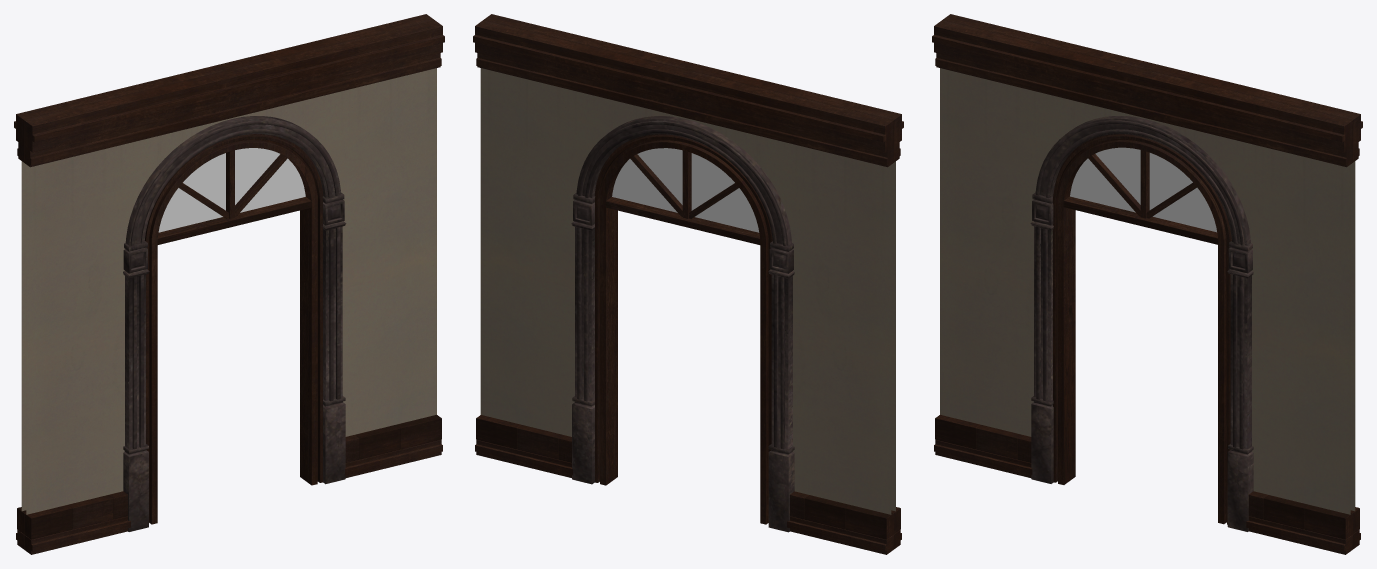
File: SK3 DOOR2 INTERIOR.fbx
3 views of the same model, side by side, from view 1: azimuth 30°, elevation 25°; view 2: azimuth 150°, elevation 25°; view 3: azimuth 330°, elevation 25° (orthographic).
Visible parts, largest first — view 1: SK3 DOOR2 INTERIOR; view 2: SK3 DOOR2 INTERIOR; view 3: SK3 DOOR2 INTERIOR.
Part boxes in pixels (<box>): SK3 DOOR2 INTERIOR: <box>14,14,444,554</box>; SK3 DOOR2 INTERIOR: <box>473,14,903,554</box>; SK3 DOOR2 INTERIOR: <box>932,14,1362,554</box>.
Size of the model in its own units: 400 by 400 by 34.27.
